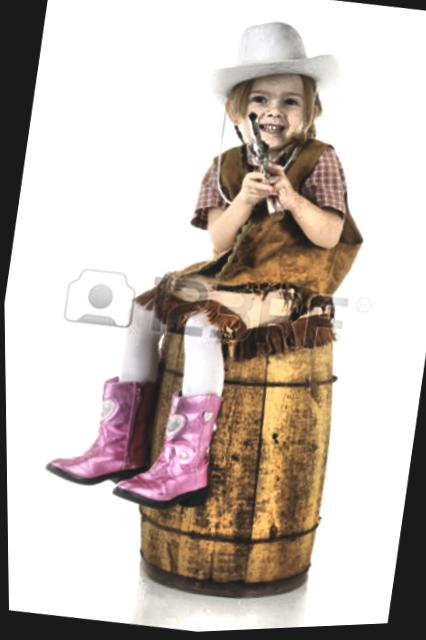pistol: (230, 108, 297, 220)
